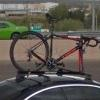Bicycle: (8, 7, 98, 77)
